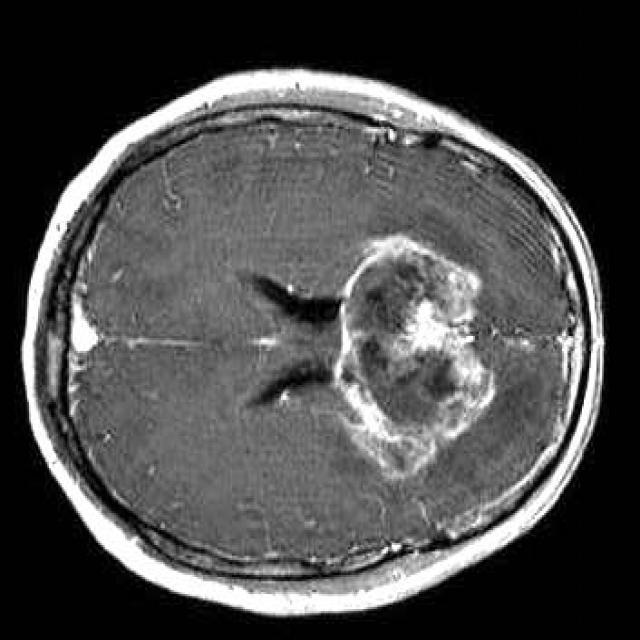tumor: (334, 235, 499, 476)
